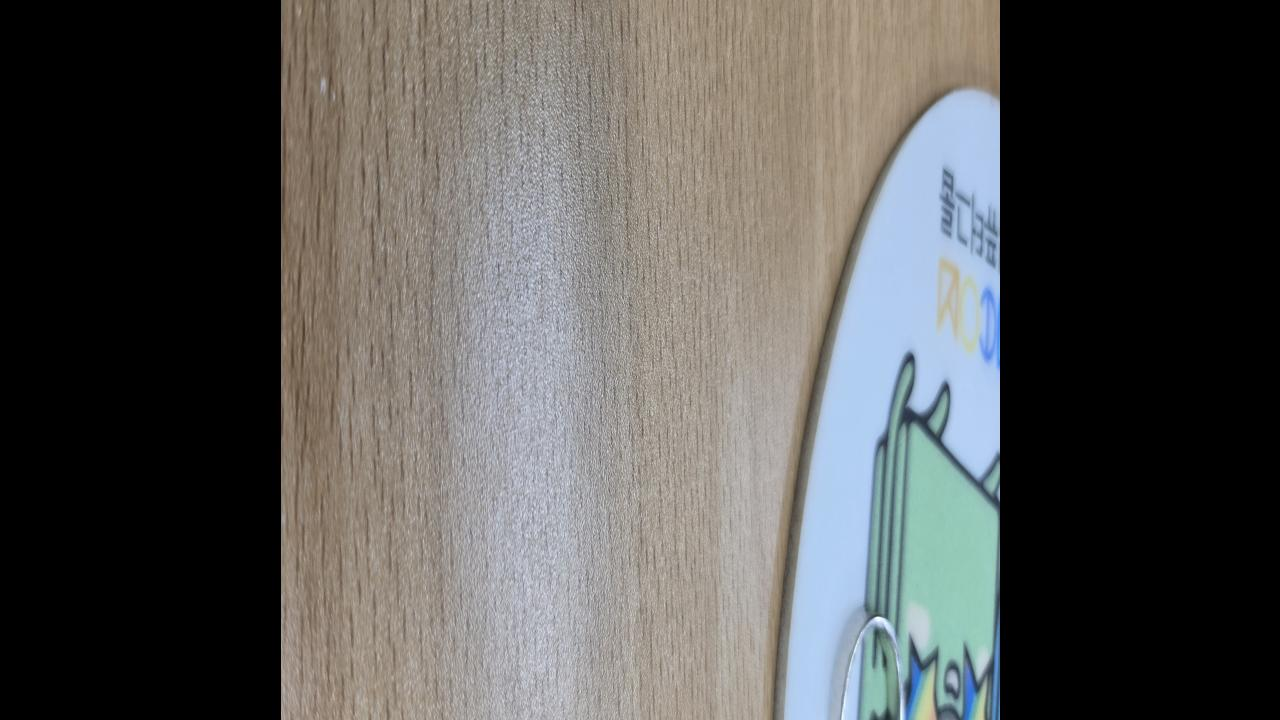ring: (825, 615, 902, 720)
